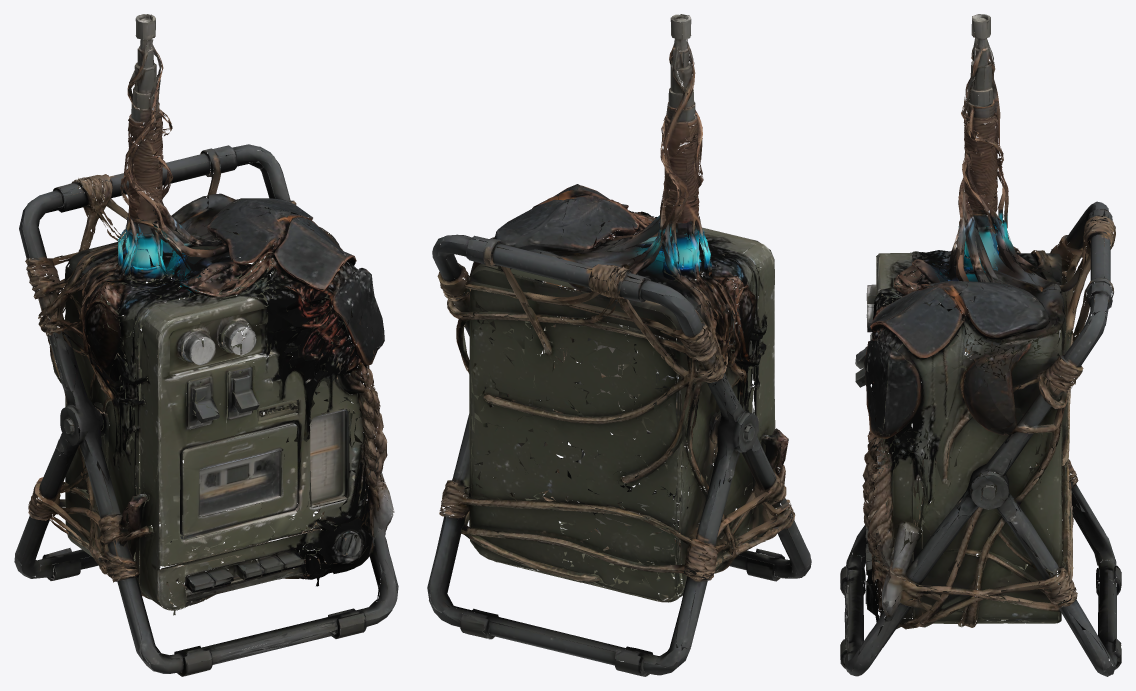
Rendered from tina_secret_distress_beacon.glb.
3 renders of one model, left to right at view 1: azimuth 30°, elevation 25°; view 2: azimuth 150°, elevation 25°; view 3: azimuth 270°, elevation 25°, orthographic. The views are drawn at different scales.
Parts seen in each view (by area): view 1: node_0; view 2: node_0; view 3: node_0.
Part boxes in pixels (x1=…): node_0: x1=14, y1=14, x2=398, y2=676; node_0: x1=427, y1=14, x2=811, y2=676; node_0: x1=840, y1=14, x2=1121, y2=676.
Bounding box in the file's own units: 0.5124 × 1.07 × 0.4658.
1 material, 1 textured.
